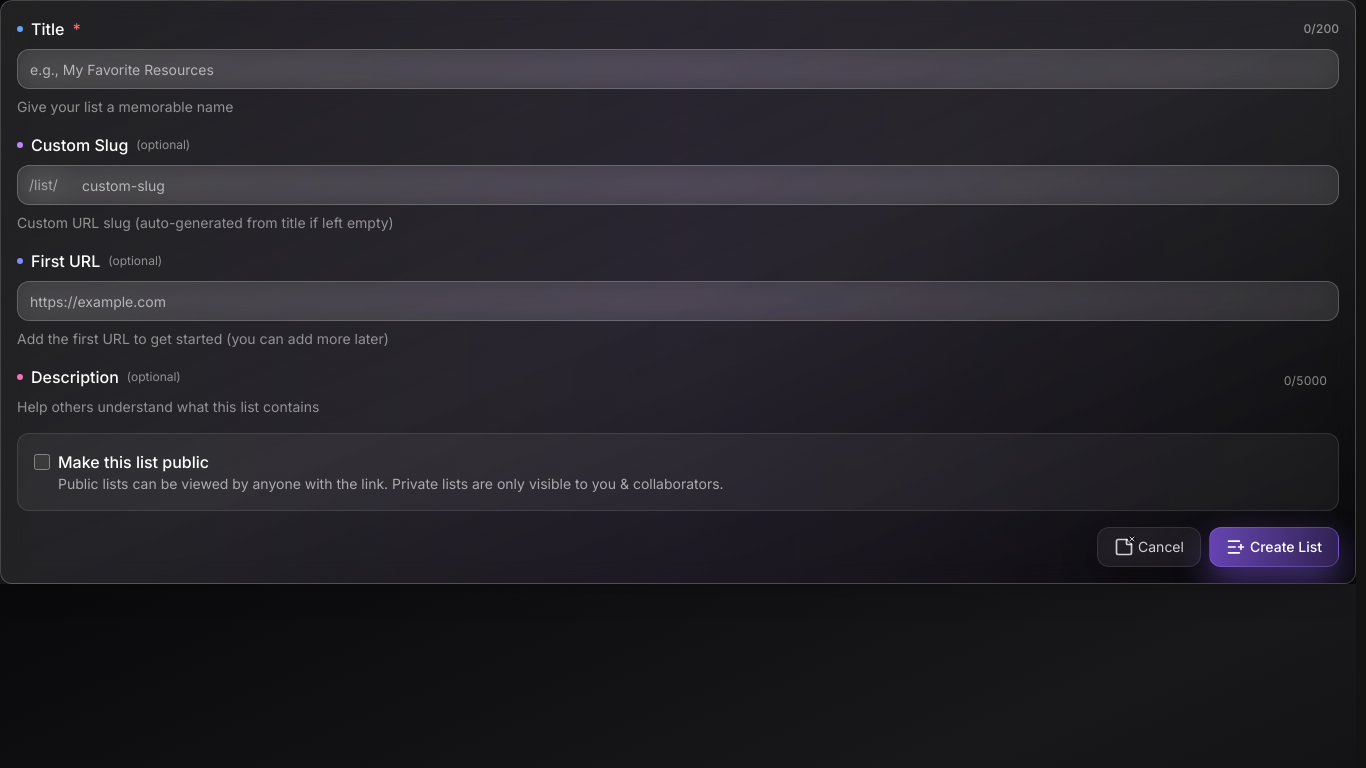
Test: list dialog completion › keeps create pending through the confirmed detail transition
Type "Created List" into the field with placeholder "e.g., My Favorite Resources".
click(678, 69); type("Created List")  # box [17, 49, 1339, 89]
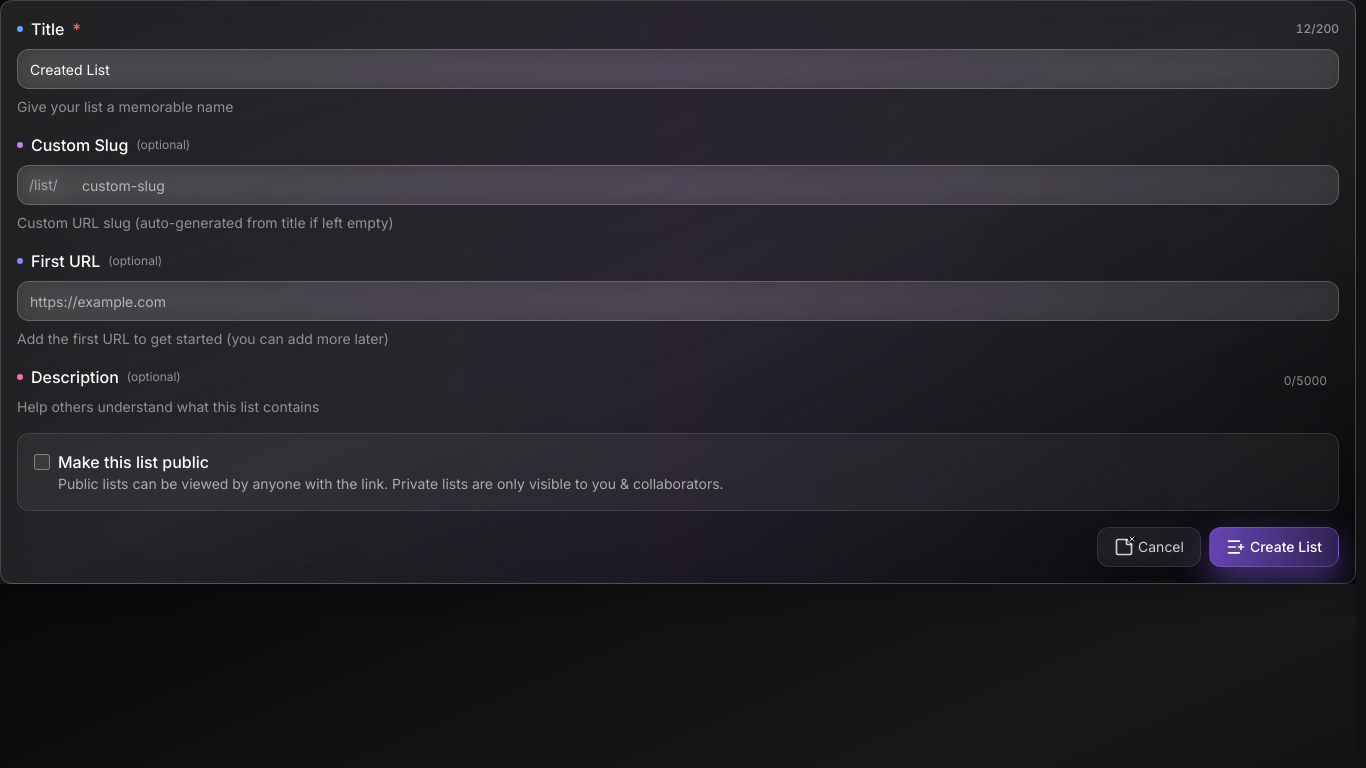
Click the button "Create List".
click(1274, 547)  # box [1209, 527, 1339, 567]
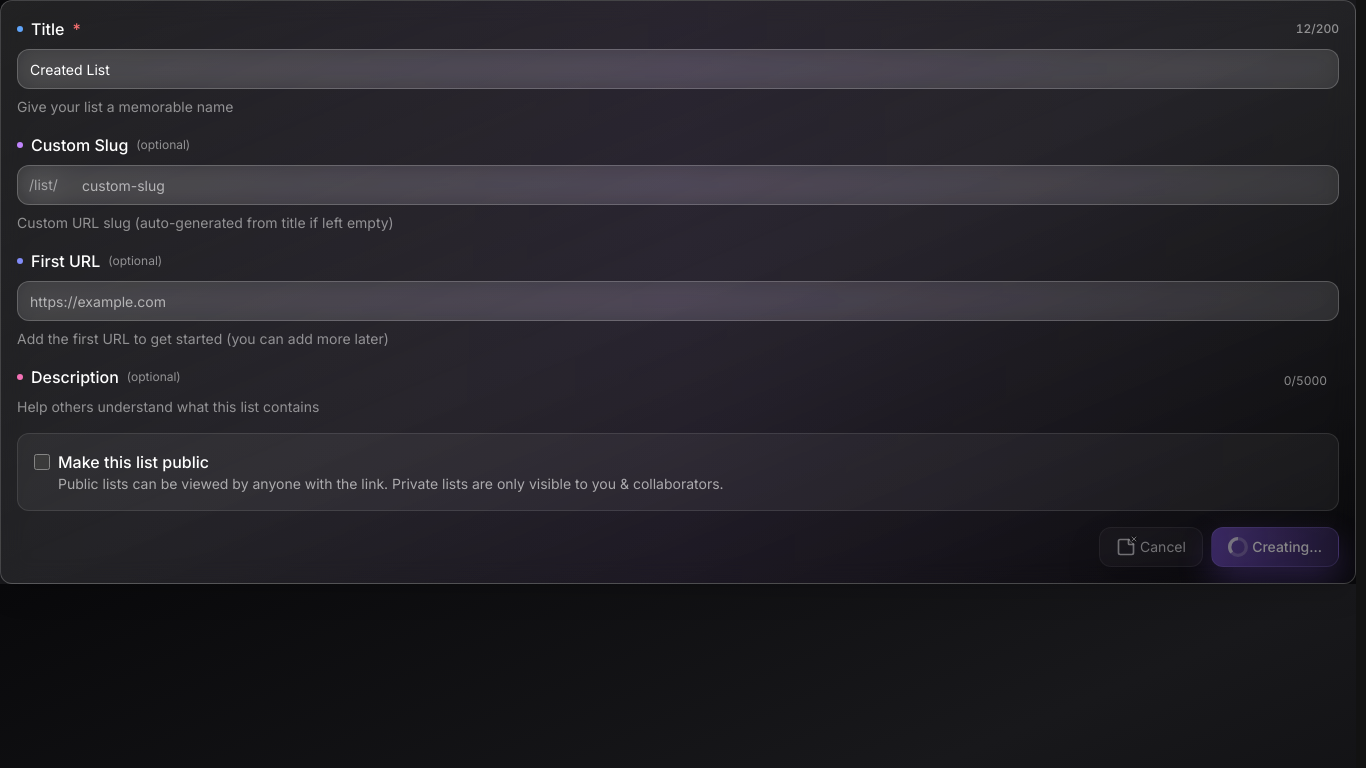
Expected: the button "Creating…" is disabled, [1211, 527, 1339, 567]
